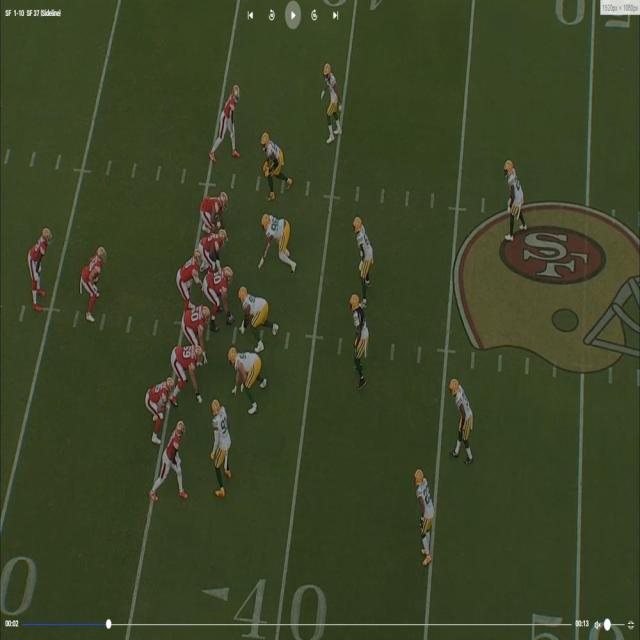center: (214, 265, 236, 307)
db: (448, 378, 474, 462), (420, 468, 436, 560), (324, 60, 342, 140), (510, 164, 527, 238)
lb: (211, 396, 232, 492), (353, 292, 370, 386), (262, 134, 291, 188), (354, 219, 372, 290)
qb: (176, 248, 205, 304)
skill: (158, 421, 184, 496), (79, 243, 105, 311), (218, 81, 242, 154), (28, 228, 49, 307), (149, 377, 174, 440)
